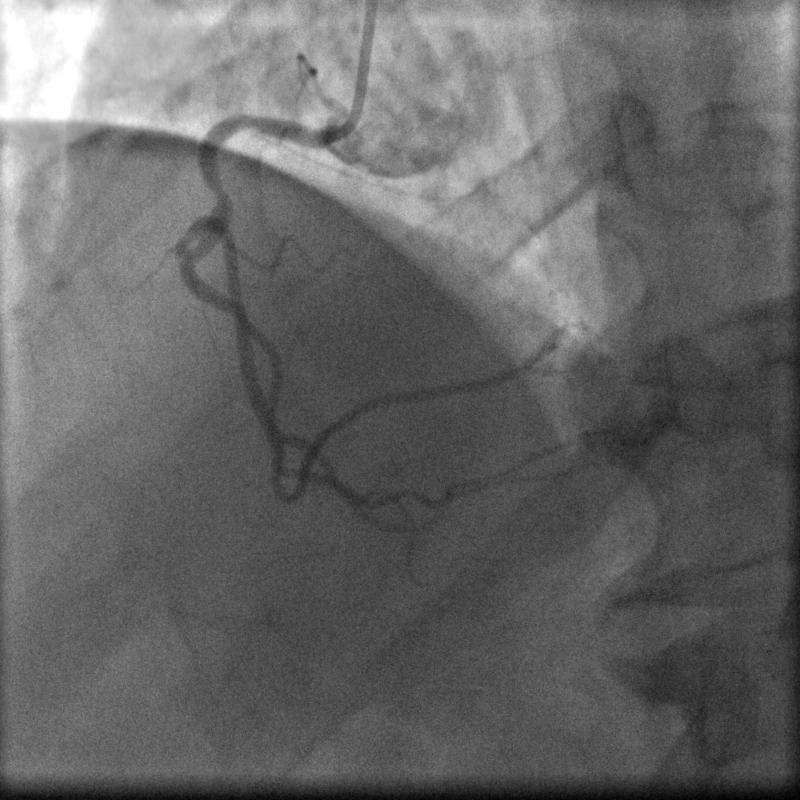Stenosis: (203, 175, 237, 208)
